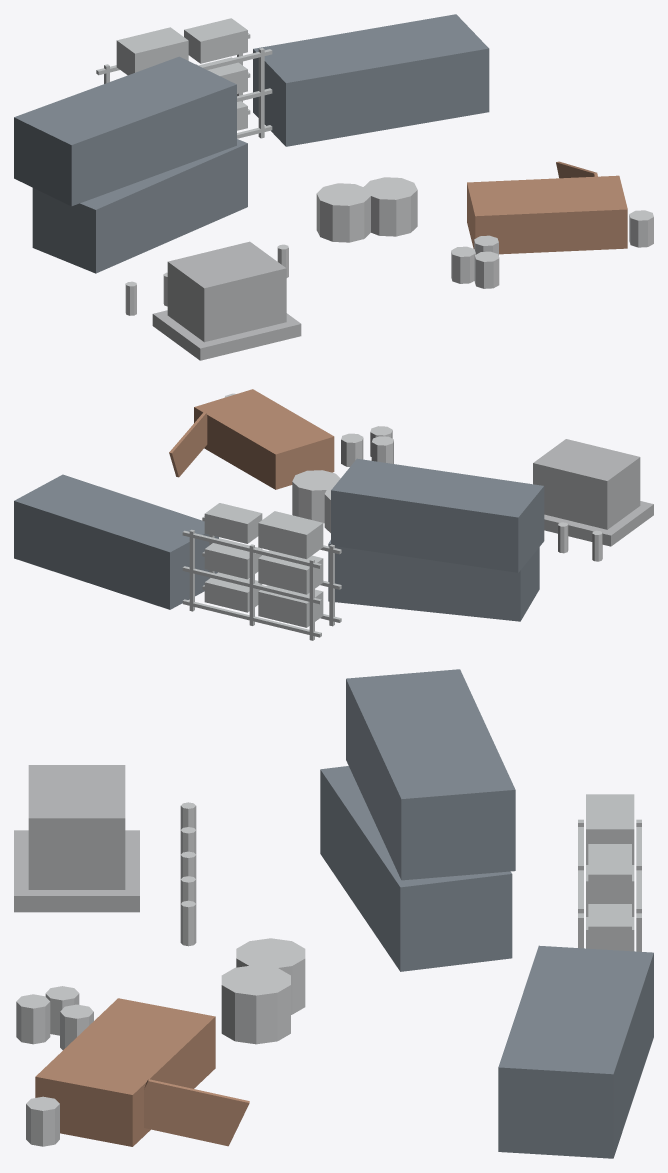
Rendered from industrial_s5.glb.
3 renders of one model, top to bottom at view 1: azimuth 30°, elevation 25°; view 2: azimuth 150°, elevation 25°; view 3: azimuth 270°, elevation 25°, orthographic. The views are drawn at different scales.
Visible parts, largest first — view 1: industrial_s5; view 2: industrial_s5; view 3: industrial_s5.
Part boxes in pixels (x1,y1,x2,y2): industrial_s5: (14, 14, 653, 360); industrial_s5: (14, 389, 653, 640); industrial_s5: (14, 669, 653, 1158).
Bounding box in the file's own units: 15.81 × 4 × 13.21.
